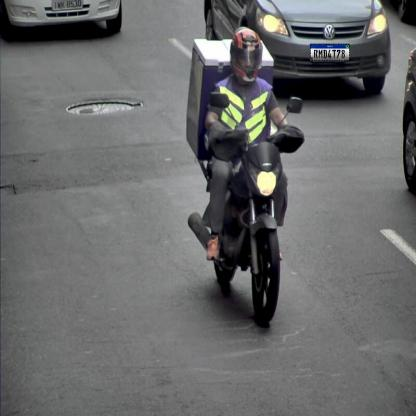PlacaM: (310, 44, 350, 61)
